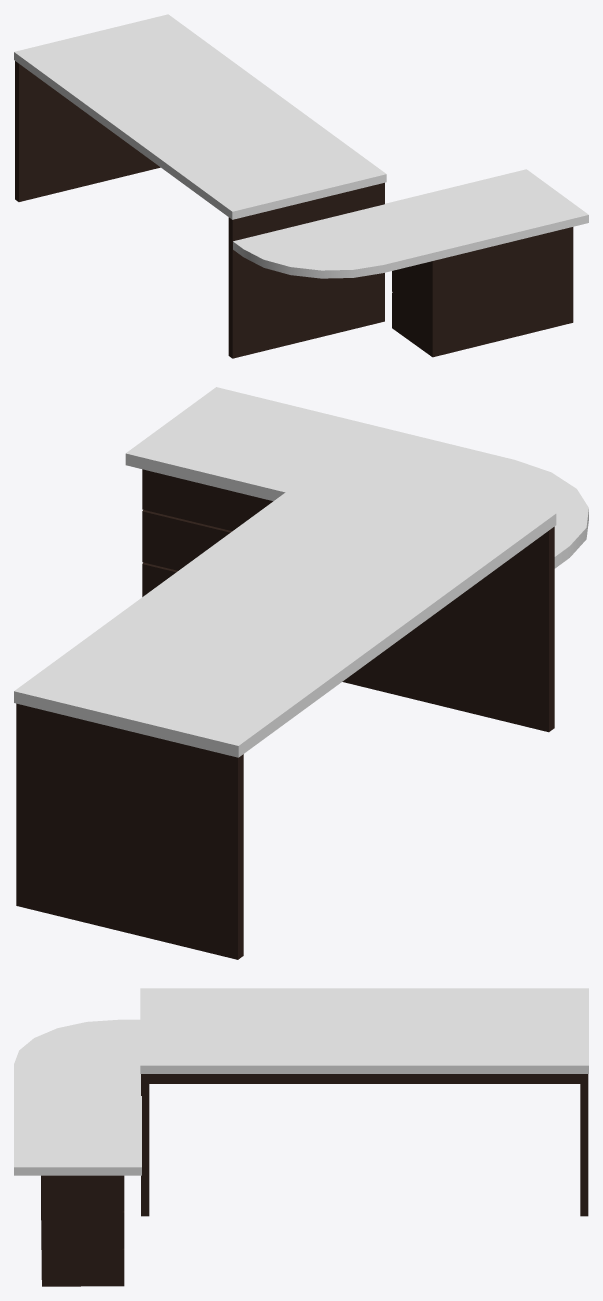
File: stol.fbx
3 renders of one model, top to bottom at view 1: azimuth 30°, elevation 25°; view 2: azimuth 150°, elevation 25°; view 3: azimuth 270°, elevation 25°, orthographic. The views are drawn at different scales.
Parts seen in each view (by area): view 1: table.003; view 2: table.003; view 3: table.003.
Part boxes in pixels (x1=…): table.003: x1=14, y1=14, x2=588, y2=358; table.003: x1=14, y1=387, x2=588, y2=959; table.003: x1=14, y1=988, x2=588, y2=1286.
Bounding box in the file's own units: 227 × 109 × 374.
